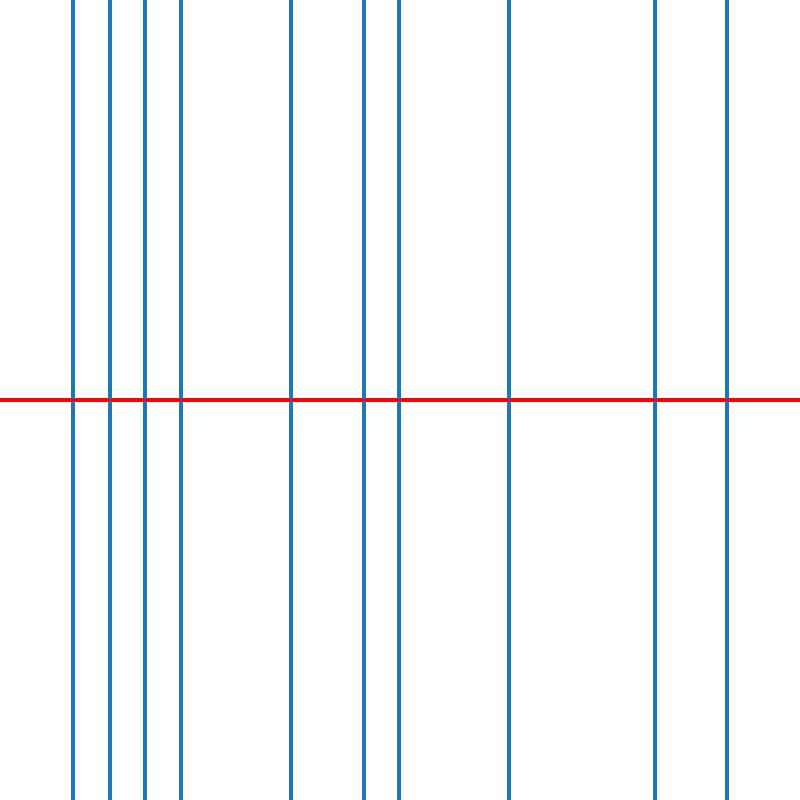root: (650, 396, 658, 404), (141, 396, 149, 404), (287, 396, 294, 404), (723, 396, 730, 404), (396, 396, 403, 404), (105, 396, 112, 404), (505, 396, 512, 404), (178, 396, 185, 404), (69, 396, 76, 404), (360, 396, 367, 404)
